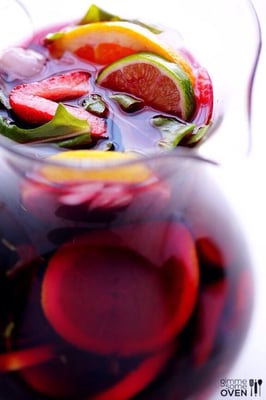steak: (39, 219, 201, 362)
